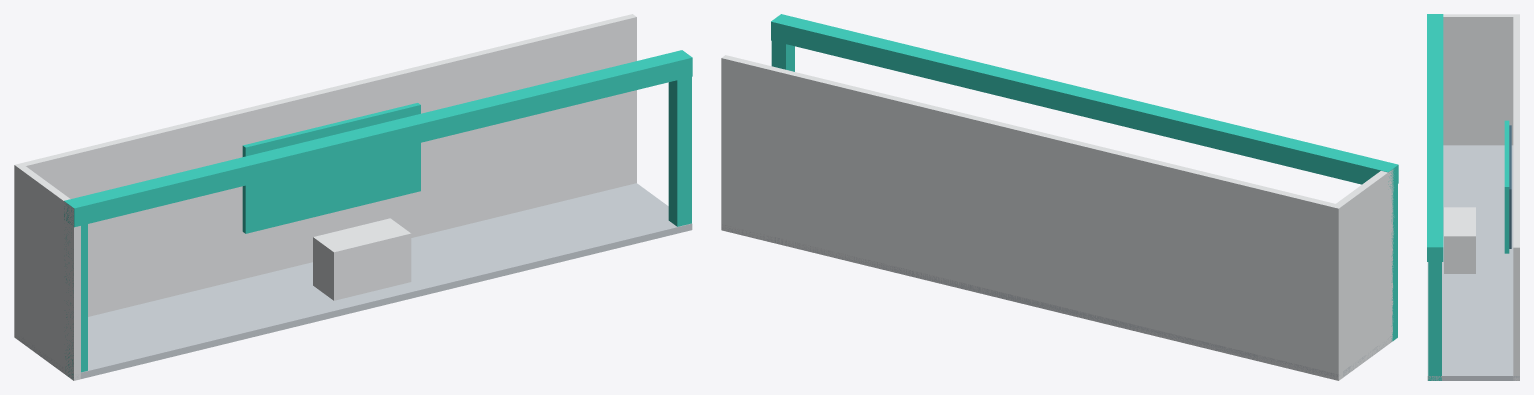
3 views of the same model, side by side, from view 1: azimuth 30°, elevation 25°; view 2: azimuth 150°, elevation 25°; view 3: azimuth 270°, elevation 25° (orthographic). The views are drawn at different scales.
Parts seen in each view (by area): view 1: Exhibition Booth Concept; view 2: Exhibition Booth Concept; view 3: Exhibition Booth Concept.
Part boxes in pixels (box(x1,y1,x2,y2)): Exhibition Booth Concept: box(14, 14, 692, 380); Exhibition Booth Concept: box(721, 14, 1398, 380); Exhibition Booth Concept: box(1427, 14, 1519, 380).
Bounding box in the file's own units: 12 × 3.2 × 2.01.
